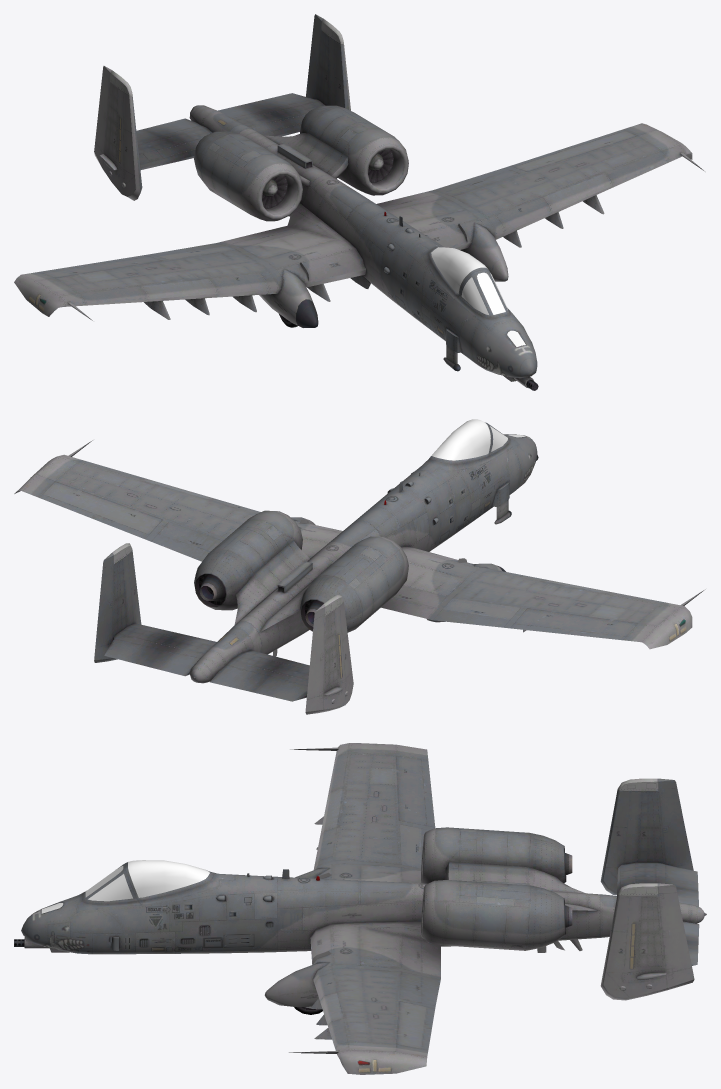
File: A-10_Thunderbolt.obj
The picture shows the model from 3 angles, top to bottom: view 1: azimuth 30°, elevation 25°; view 2: azimuth 150°, elevation 25°; view 3: azimuth 270°, elevation 25°; orthographic projection.
Visible parts, largest first — view 1: LOD0, AileronL01, Glass, Glass01, AileronR01, ElevatorL01, RudderR01, BrakeL01, RudderL01, Canopy01, ElevatorR01, BrakeR01; view 2: LOD0, AileronL01, AileronR01, ElevatorR01, ElevatorL01, Glass01, RudderR01, RudderL01, BrakeL01, FlapR01, FlapL01, BrakeR01 (+6 smaller); view 3: LOD0, RudderL01, AileronR01, Glass01, RudderR01, AileronL01, Canopy01, Glass, BrakeR01, ElevatorR01, FlapR01, FlapL03 (+3 smaller).
Part boxes in pixels (x1,y1,x2,y2): LOD0: (14, 18, 705, 390); AileronL01: (510, 129, 637, 171); Glass: (461, 272, 525, 346); Glass01: (431, 247, 487, 293); AileronR01: (39, 255, 162, 277); ElevatorL01: (218, 93, 313, 117); RudderR01: (94, 66, 111, 168); BrakeL01: (528, 136, 643, 176); RudderL01: (306, 14, 323, 99); Canopy01: (421, 241, 489, 298); ElevatorR01: (136, 118, 201, 141); BrakeR01: (55, 261, 170, 281); LOD0: (14, 423, 705, 712); AileronL01: (39, 481, 162, 538); AileronR01: (510, 608, 637, 640); ElevatorR01: (210, 665, 307, 701); ElevatorL01: (104, 639, 199, 676); Glass01: (431, 419, 490, 460); RudderR01: (305, 604, 325, 714); RudderL01: (94, 553, 113, 662); BrakeL01: (55, 476, 170, 519); FlapR01: (442, 598, 520, 619); FlapL01: (158, 522, 222, 551); BrakeR01: (528, 602, 643, 623); LOD0: (14, 743, 706, 1074); RudderL01: (657, 883, 694, 989); AileronR01: (396, 756, 435, 827); Glass01: (128, 860, 209, 897); RudderR01: (657, 778, 693, 870); AileronL01: (396, 1001, 435, 1049); Canopy01: (125, 862, 234, 904); Glass: (41, 866, 132, 913); BrakeR01: (383, 755, 399, 820); ElevatorR01: (665, 864, 698, 906); FlapR01: (399, 824, 421, 868); FlapL03: (401, 935, 421, 972).
Bounding box in the file's own units: 17.49 × 3.44 × 16.07.
